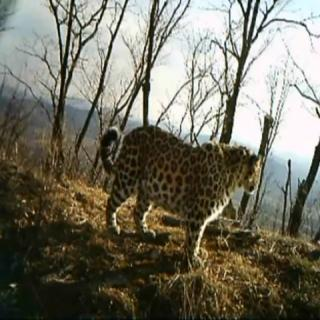Leopard: (84, 99, 278, 289)
